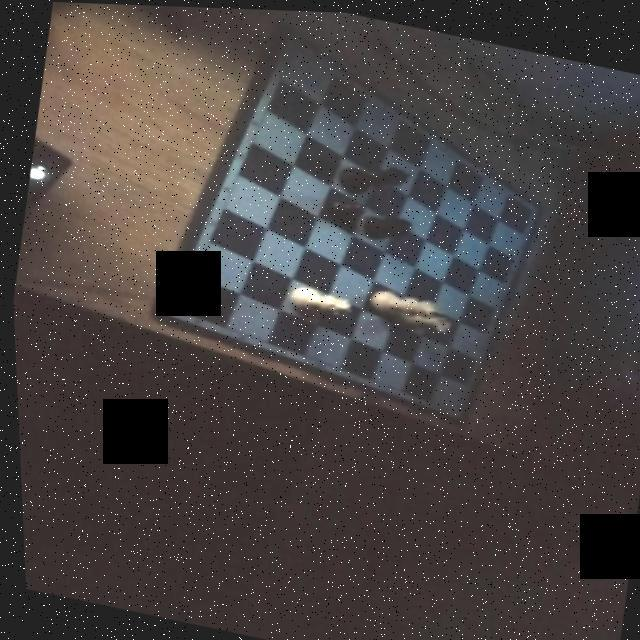chess-table-corners: (280, 28, 311, 56), (516, 191, 546, 219), (442, 396, 472, 424), (162, 296, 191, 322)
